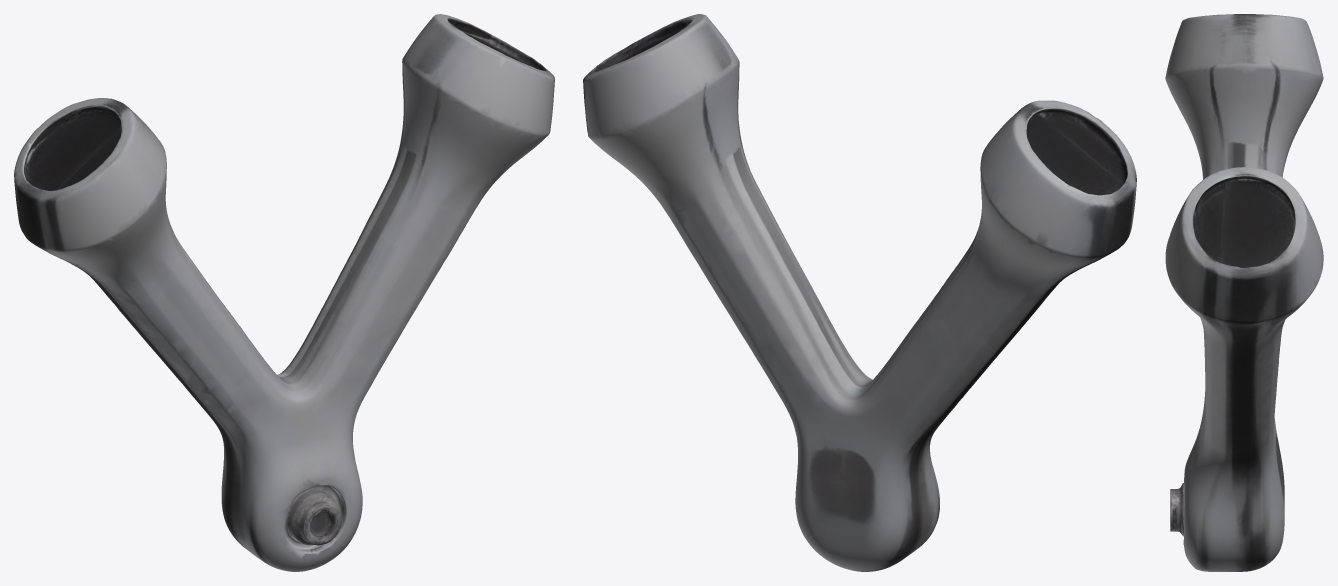
The model's file is hip-prosthesis.glb.
3 views of the same model, side by side, from view 1: azimuth 30°, elevation 25°; view 2: azimuth 150°, elevation 25°; view 3: azimuth 270°, elevation 25° (orthographic). The views are drawn at different scales.
Parts seen in each view (by area): view 1: model; view 2: model; view 3: model.
Part boxes in pixels (x1=…): model: x1=14, y1=14, x2=554, y2=571; model: x1=583, y1=14, x2=1136, y2=571; model: x1=1165, y1=14, x2=1323, y2=571.
Bounding box in the file's own units: 1.9 × 1.71 × 0.5157.
1 material, 1 textured.
